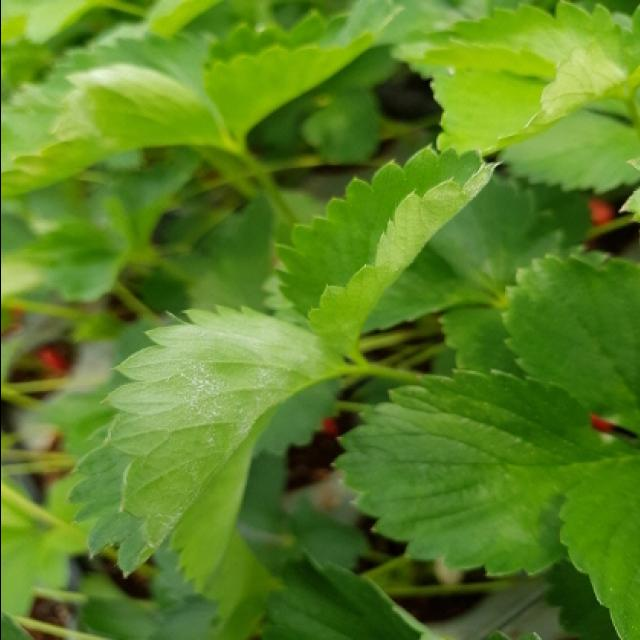Powdery Mildew Leaf: (64, 301, 359, 580), (272, 143, 504, 365)
